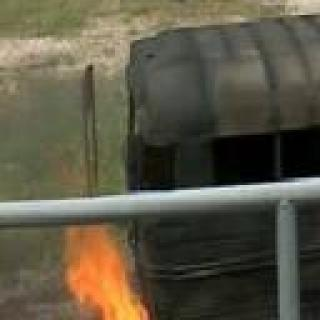fire: (65, 230, 150, 320)
